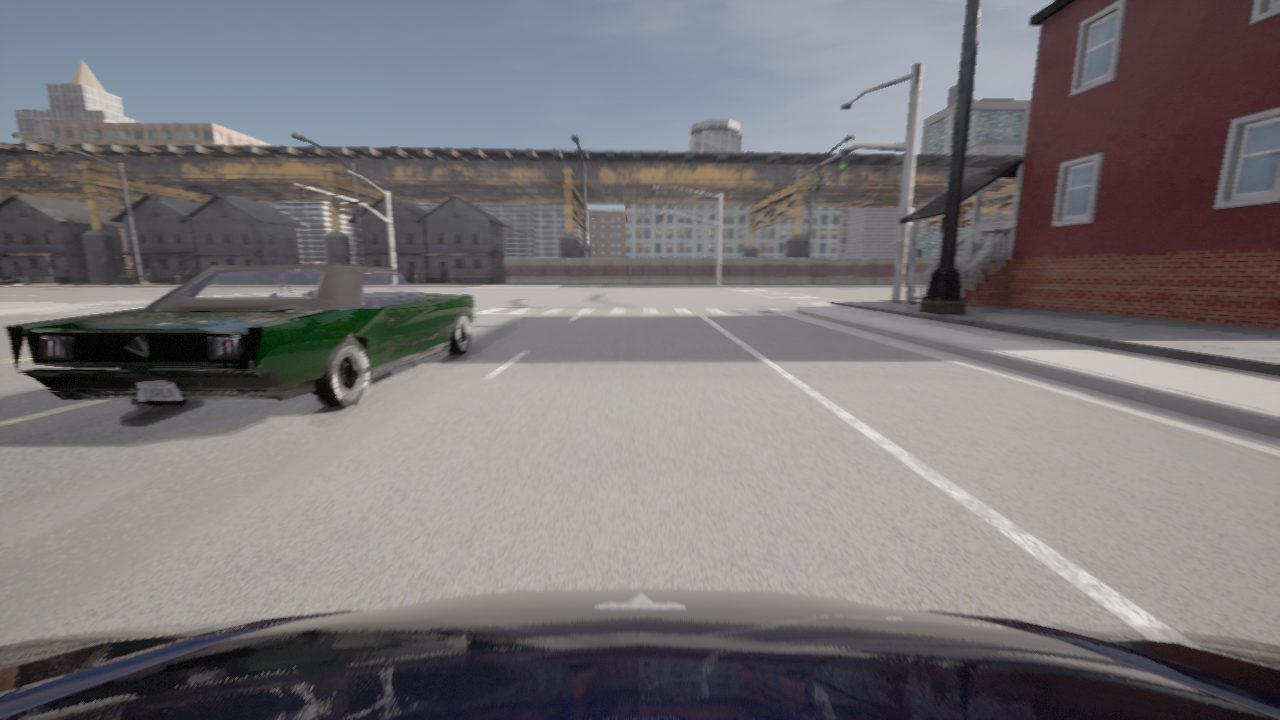cyclist: (0, 588, 1279, 719), (7, 265, 476, 407)
